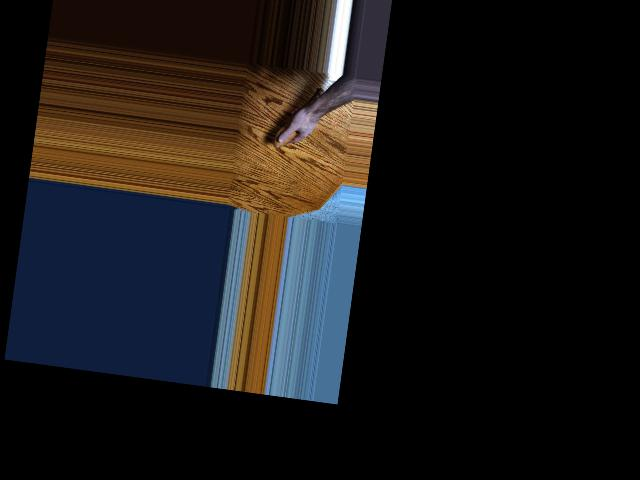sweet_potato: (272, 81, 325, 153)
